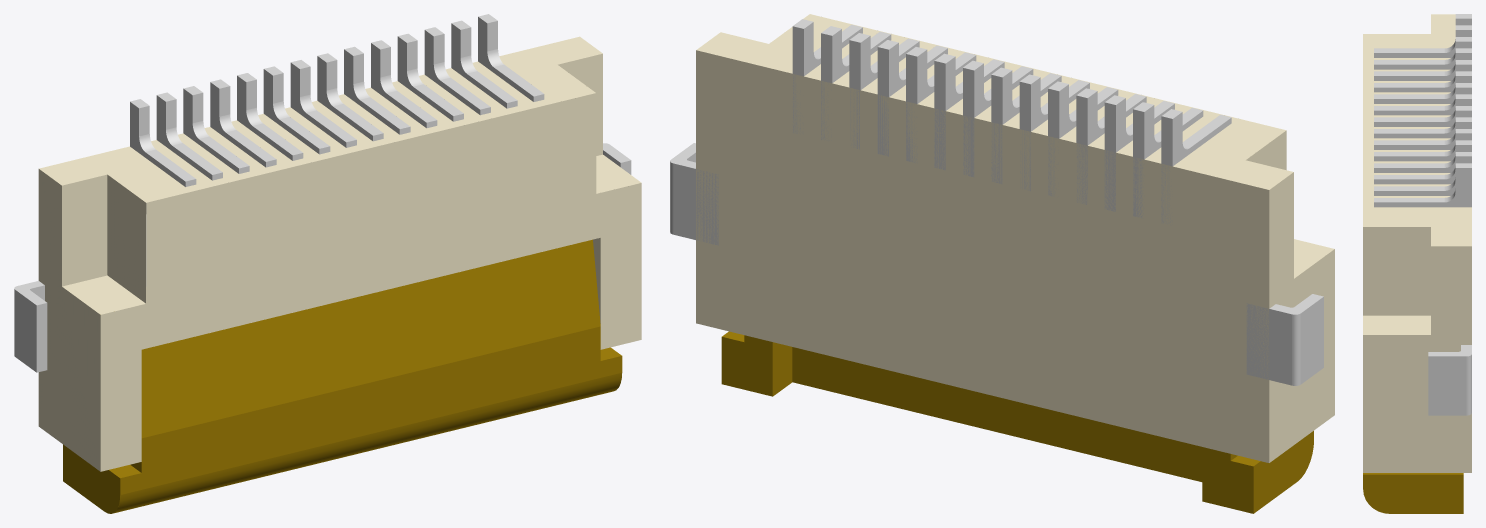
Rendered from Hirose_FH12-14S-0.5SH_1x14-1MP_P0.50mm_Horizontal.glb.
The picture shows the model from 3 angles, left to right: view 1: azimuth 30°, elevation 25°; view 2: azimuth 150°, elevation 25°; view 3: azimuth 270°, elevation 25°; orthographic projection. The views are drawn at different scales.
Visible parts, largest first — view 1: Shape_IndexedFaceSet.005, Shape_IndexedFaceSet.023, Shape_IndexedFaceSet.016, Shape_IndexedFaceSet, Shape_IndexedFaceSet.008, Shape_IndexedFaceSet.018, Shape_IndexedFaceSet.007, Shape_IndexedFaceSet.006, Shape_IndexedFaceSet.020, Shape_IndexedFaceSet.014, Shape_IndexedFaceSet.215, Shape_IndexedFaceSet.003 (+16 smaller); view 2: Shape_IndexedFaceSet.001, Shape_IndexedFaceSet.030, Shape_IndexedFaceSet, Shape_IndexedFaceSet.008, Shape_IndexedFaceSet.222, Shape_IndexedFaceSet.213, Shape_IndexedFaceSet.027, Shape_IndexedFaceSet.026, Shape_IndexedFaceSet.020, Shape_IndexedFaceSet.215, Shape_IndexedFaceSet.124, Shape_IndexedFaceSet.160 (+16 smaller); view 3: Shape_IndexedFaceSet.002, Shape_IndexedFaceSet, Shape_IndexedFaceSet.004, Shape_IndexedFaceSet.017, Shape_IndexedFaceSet.206, Shape_IndexedFaceSet.010, Shape_IndexedFaceSet.090, Shape_IndexedFaceSet.066, Shape_IndexedFaceSet.074, Shape_IndexedFaceSet.082, Shape_IndexedFaceSet.042, Shape_IndexedFaceSet.050 (+25 smaller).
Boxes of the visible parts, <box> form: Shape_IndexedFaceSet.005: <box>100,93,641,471</box>; Shape_IndexedFaceSet.023: <box>141,239,600,438</box>; Shape_IndexedFaceSet.016: <box>120,326,622,494</box>; Shape_IndexedFaceSet: <box>39,36,602,202</box>; Shape_IndexedFaceSet.008: <box>38,169,100,471</box>; Shape_IndexedFaceSet.018: <box>113,372,621,513</box>; Shape_IndexedFaceSet.007: <box>62,174,107,286</box>; Shape_IndexedFaceSet.006: <box>107,174,145,303</box>; Shape_IndexedFaceSet.020: <box>63,444,120,513</box>; Shape_IndexedFaceSet.014: <box>62,275,145,314</box>; Shape_IndexedFaceSet.215: <box>15,290,36,372</box>; Shape_IndexedFaceSet.003: <box>558,53,602,155</box>; Shape_IndexedFaceSet.001: <box>696,50,1269,462</box>; Shape_IndexedFaceSet.030: <box>792,347,1202,481</box>; Shape_IndexedFaceSet: <box>696,14,1293,189</box>; Shape_IndexedFaceSet.008: <box>1269,172,1334,462</box>; Shape_IndexedFaceSet.222: <box>1246,303,1291,385</box>; Shape_IndexedFaceSet.213: <box>673,163,718,245</box>; Shape_IndexedFaceSet.027: <box>1202,447,1253,513</box>; Shape_IndexedFaceSet.026: <box>721,335,772,396</box>; Shape_IndexedFaceSet.020: <box>1253,431,1313,513</box>; Shape_IndexedFaceSet.215: <box>1301,297,1323,384</box>; Shape_IndexedFaceSet.124: <box>1104,102,1115,211</box>; Shape_IndexedFaceSet.160: <box>934,61,945,170</box>; Shape_IndexedFaceSet.002: <box>1363,246,1471,472</box>; Shape_IndexedFaceSet: <box>1363,14,1471,246</box>; Shape_IndexedFaceSet.004: <box>1363,227,1430,315</box>; Shape_IndexedFaceSet.017: <box>1363,474,1463,513</box>; Shape_IndexedFaceSet.206: <box>1428,356,1466,415</box>; Shape_IndexedFaceSet.010: <box>1363,315,1430,334</box>; Shape_IndexedFaceSet.090: <box>1374,168,1471,207</box>; Shape_IndexedFaceSet.066: <box>1374,99,1471,138</box>; Shape_IndexedFaceSet.074: <box>1374,122,1471,161</box>; Shape_IndexedFaceSet.082: <box>1374,145,1471,184</box>; Shape_IndexedFaceSet.042: <box>1374,30,1471,69</box>; Shape_IndexedFaceSet.050: <box>1374,53,1471,92</box>.
Bounding box in the file's own units: 4.37 × 2.52 × 0.7874.
